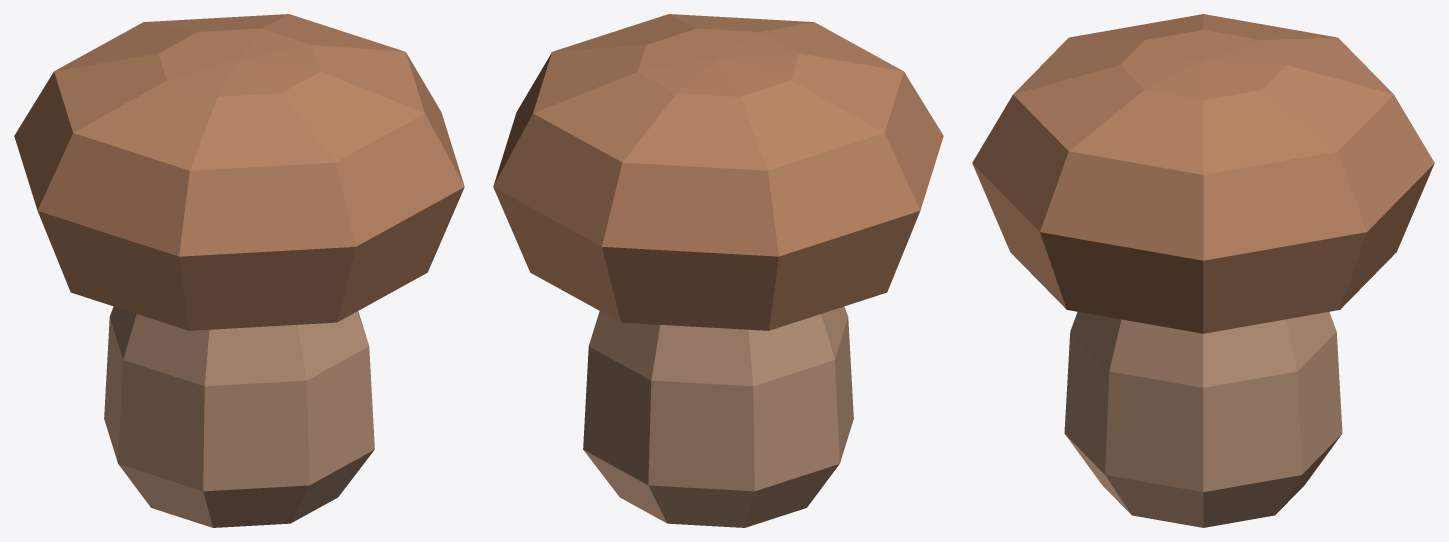
File: Mushroom_15.fbx
3 renders of one model, left to right at view 1: azimuth 30°, elevation 25°; view 2: azimuth 150°, elevation 25°; view 3: azimuth 270°, elevation 25°, orthographic.
Visible parts, largest first — view 1: Mushroom_15; view 2: Mushroom_15; view 3: Mushroom_15.
Part boxes in pixels (x1,y1,x2,y2): Mushroom_15: (14, 14, 464, 527); Mushroom_15: (493, 14, 943, 527); Mushroom_15: (972, 14, 1434, 527).
Size of the model in its own units: 65.08 by 65.79 by 65.08.
